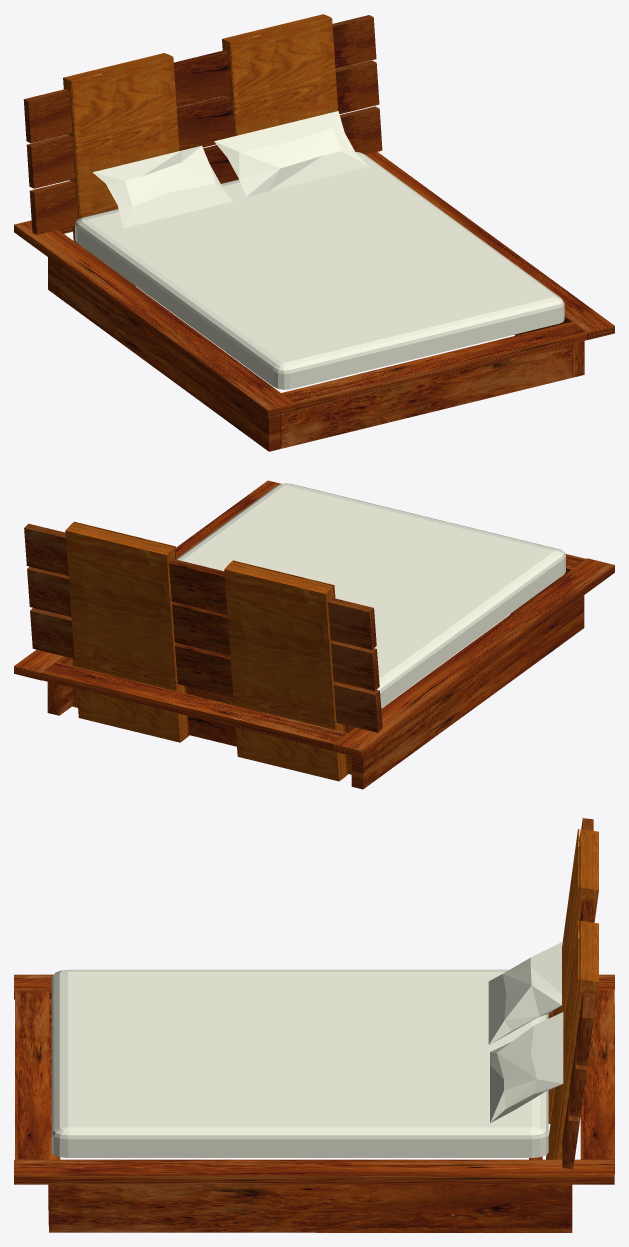
Rendered from bed.glb.
3 renders of one model, top to bottom at view 1: azimuth 30°, elevation 25°; view 2: azimuth 150°, elevation 25°; view 3: azimuth 270°, elevation 25°, orthographic. The views are drawn at different scales.
Size of the model in its own units: 357 by 196 by 452.
8 materials, 7 textured.
